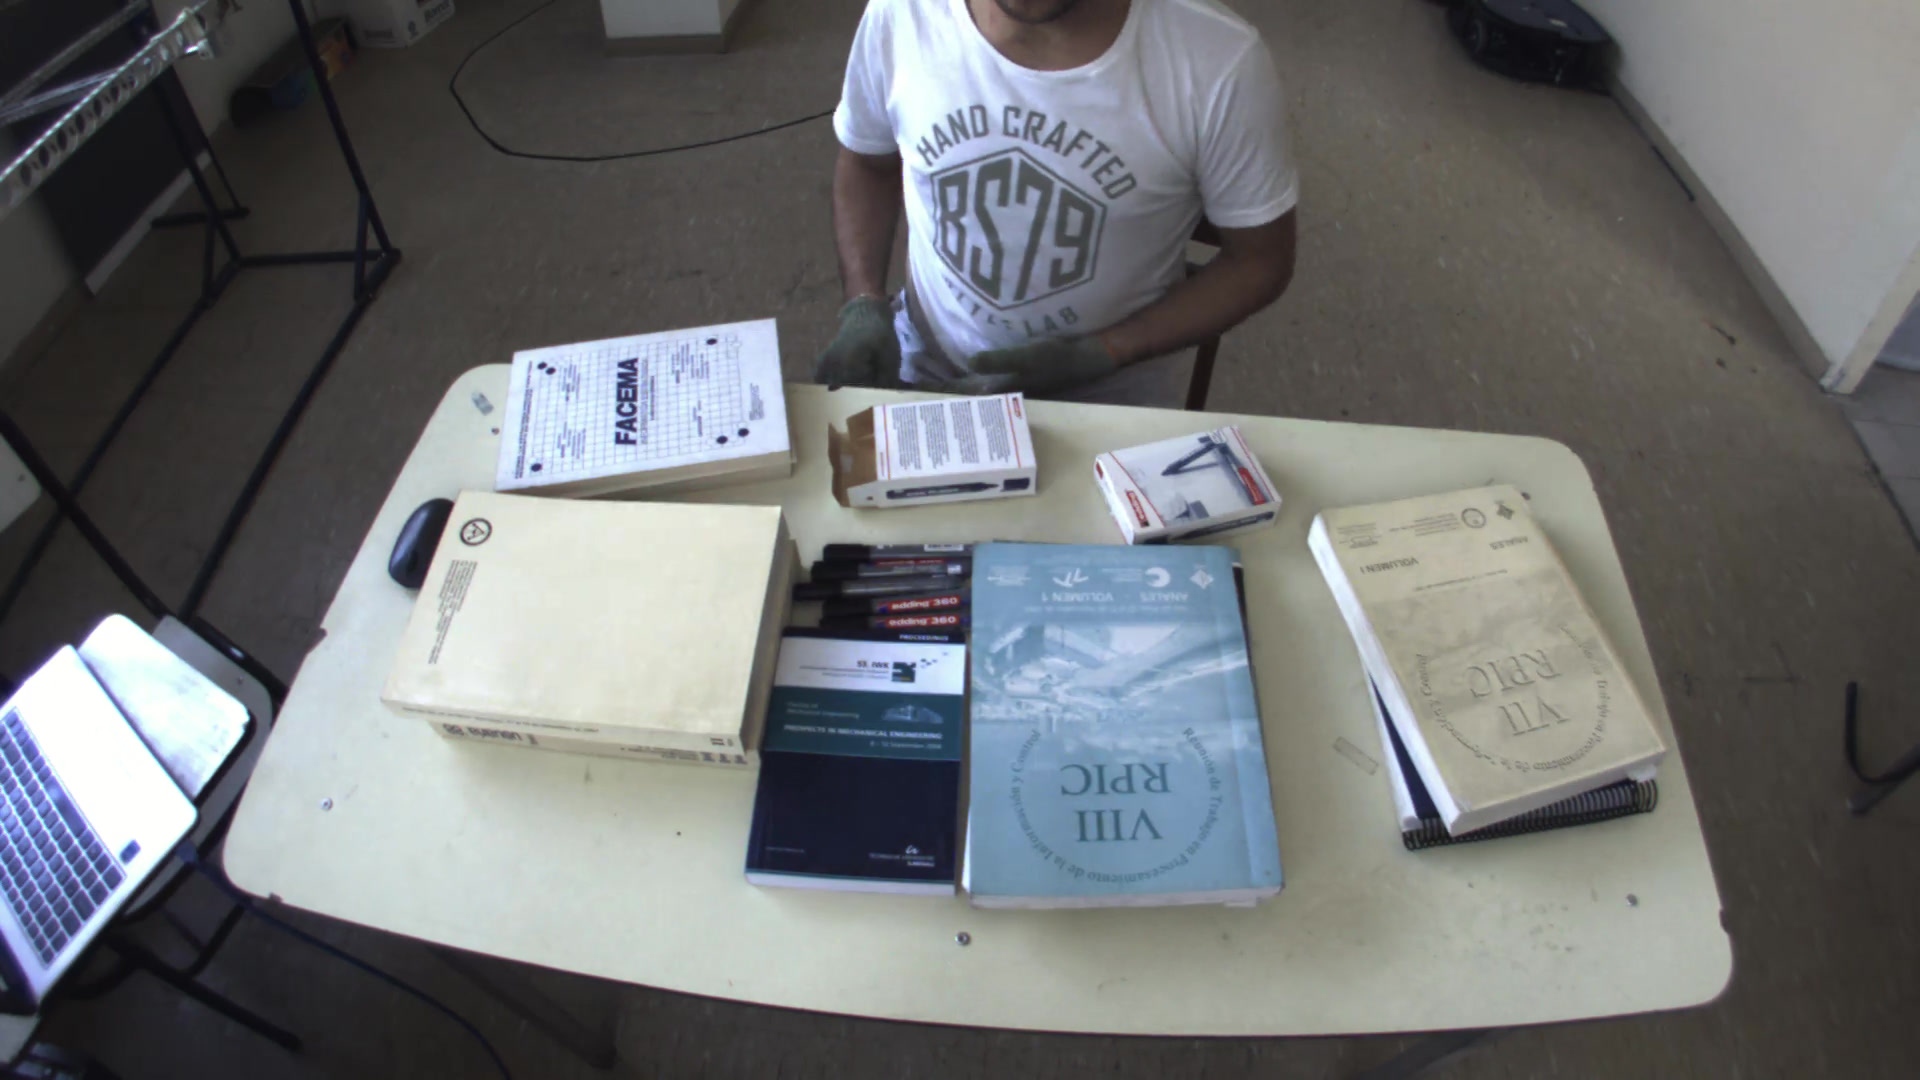hand: (926, 322, 1104, 409), (804, 284, 901, 392)
